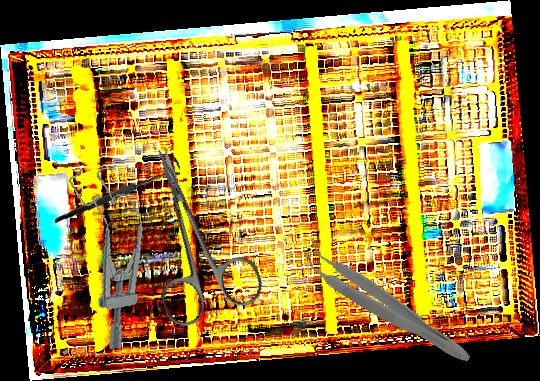Hook Surgical: (54, 146, 182, 234)
Iris Scissors: (117, 131, 268, 331)
Speculum: (67, 159, 161, 352)
Tissue Forceps: (292, 235, 480, 371)
